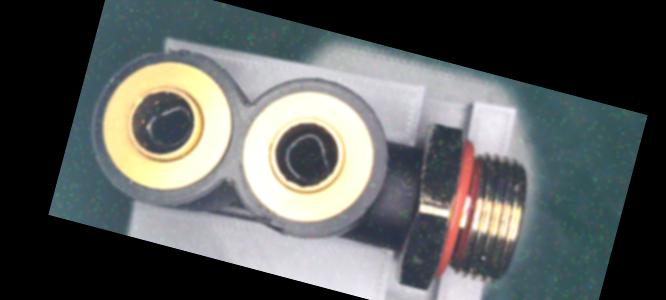bump: (136, 34, 195, 66), (247, 208, 293, 234)
joint line: (382, 186, 417, 204)
off-centered: (275, 125, 343, 191), (138, 95, 199, 158)
white mark: (394, 173, 417, 192)
